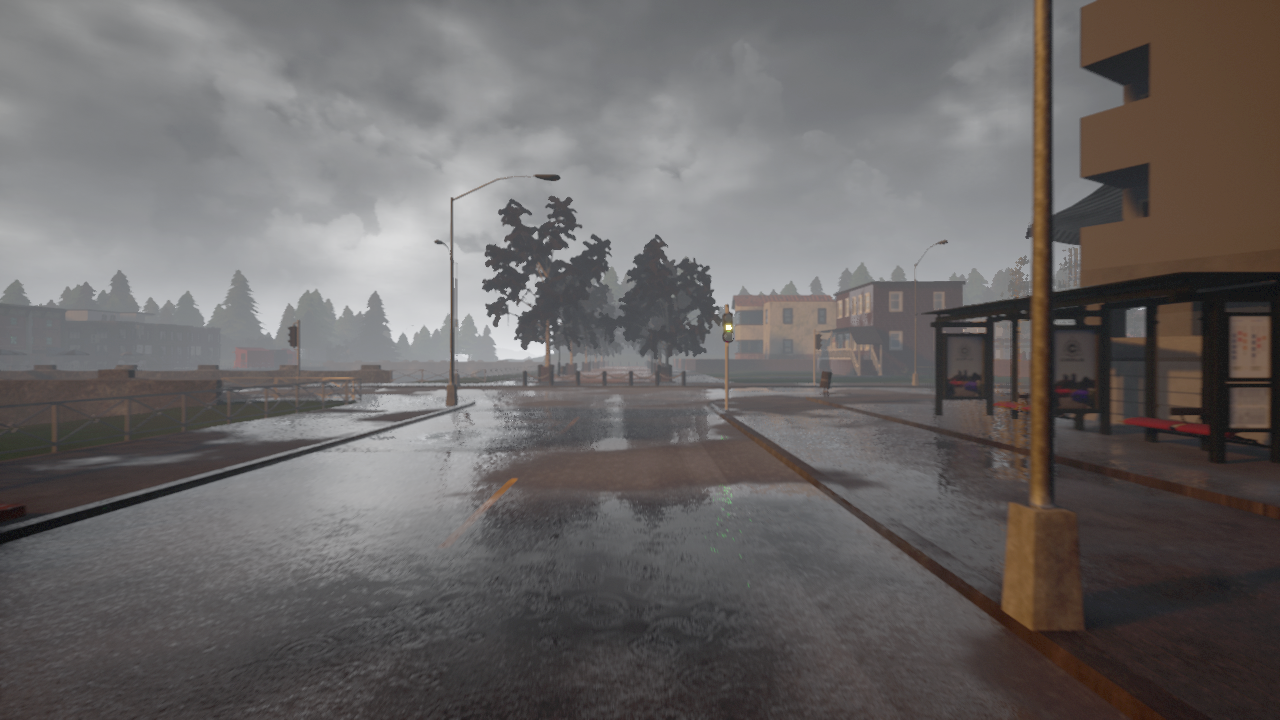yellow: (722, 311, 733, 343)
